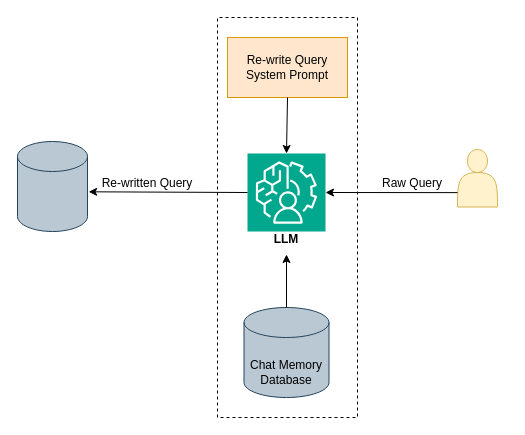
Some shapes in this 525 by 435 pixel diagram are drawn without their labels. The shapes that lost their labels are listed below. From the top down, each one's centre as x and y in pixels, then its label:
At (52,186): "Vector Database".
At (477,177): "User".
